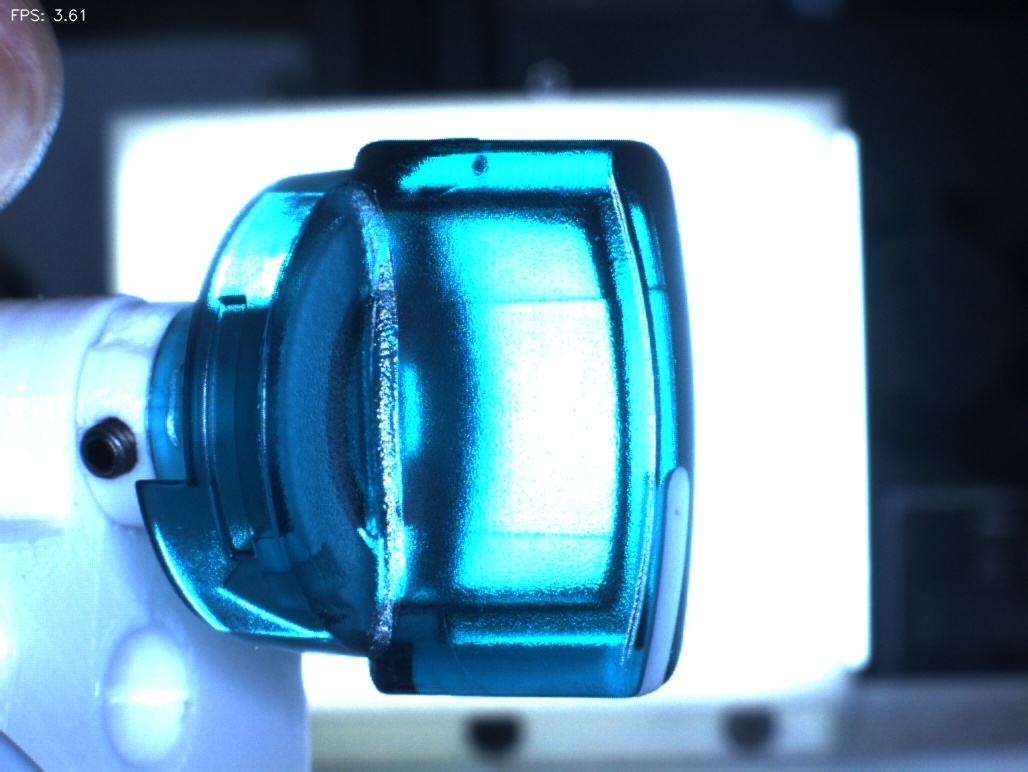Bulle: (438, 121, 522, 205)
